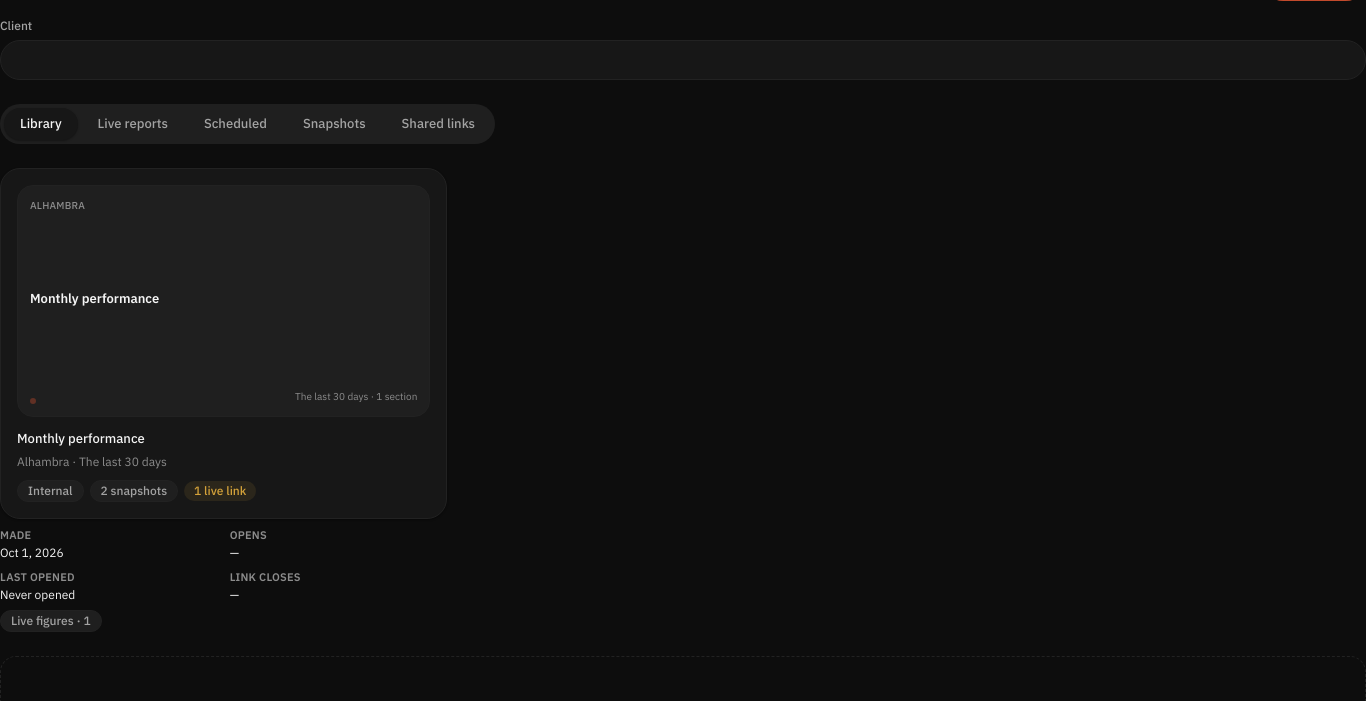
editing one in the full editor › shows what a comparison cannot account for while it is being chosen
The image size is (1366, 701).
Click the button "Monthly performance". click: {"x": 224, "y": 343}
box: [0,168,447,519]
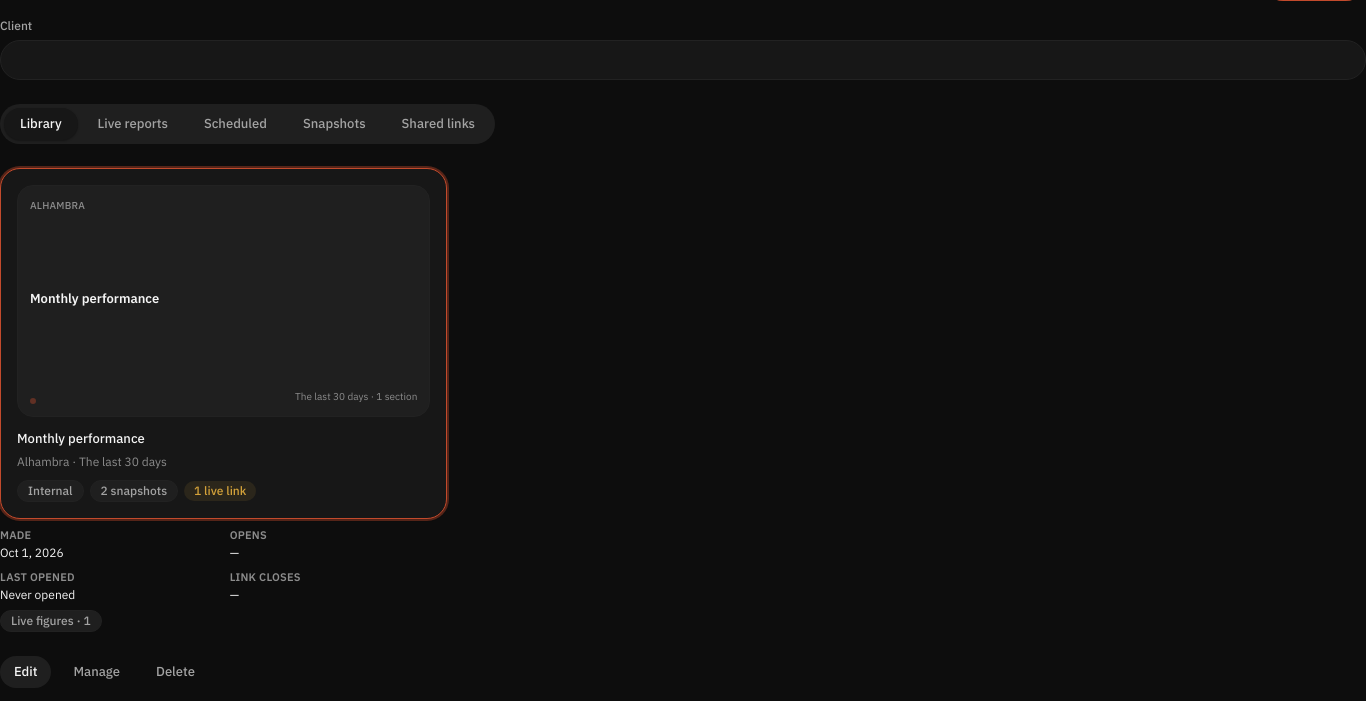
Click the button "Edit". click: {"x": 26, "y": 672}
box: [0,656,52,688]
(page scrolled)
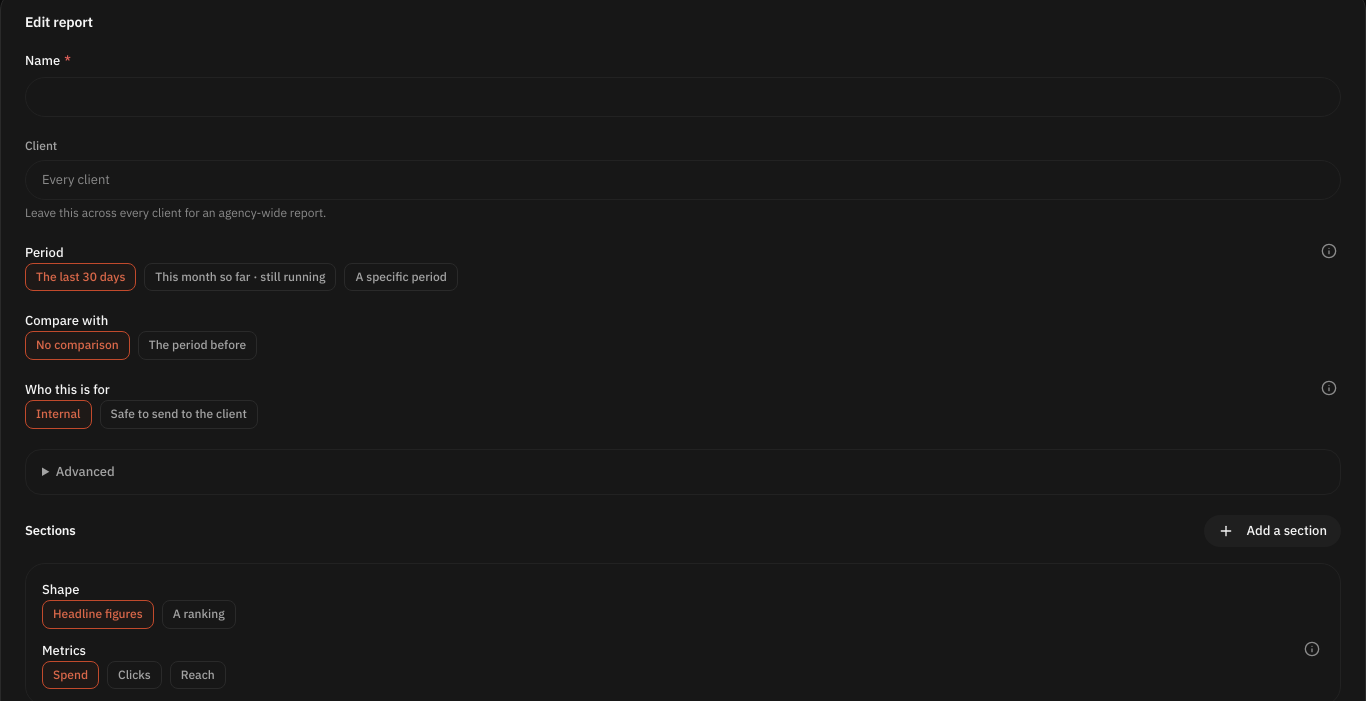
Click the button "The period before". click: {"x": 197, "y": 346}
box: [138,331,257,360]
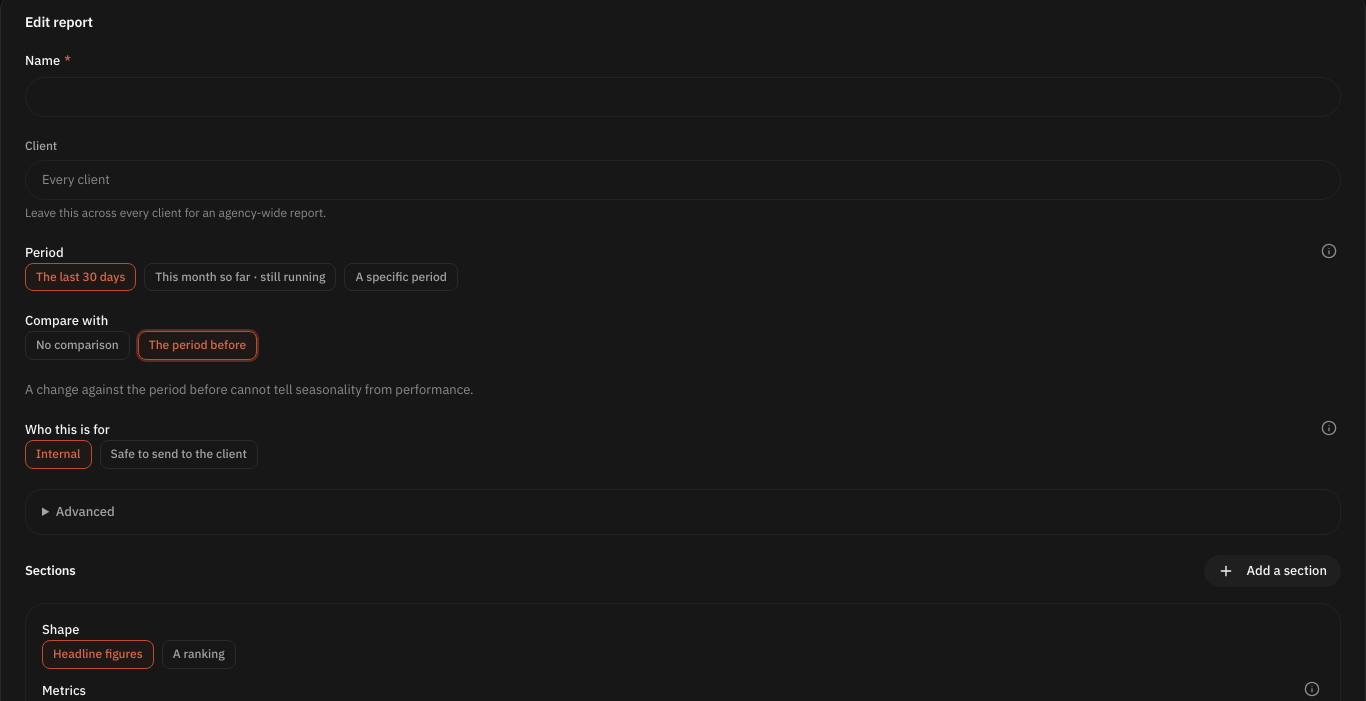
Check: the text "cannot tell seasonality from performance" is shown, box [25,380,474,399]
